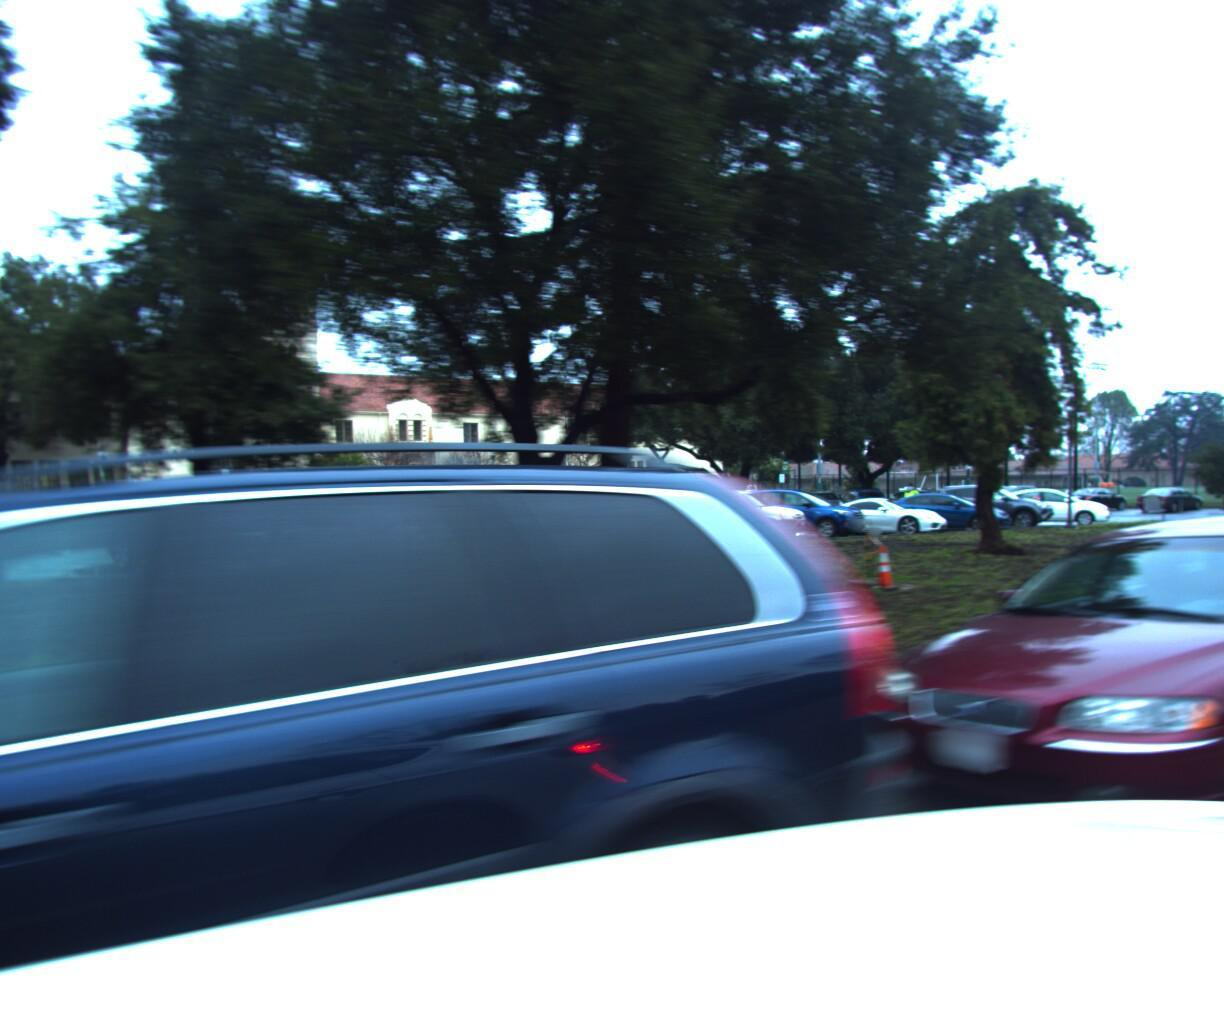car: (0, 129, 965, 1024), (810, 494, 1224, 941)
